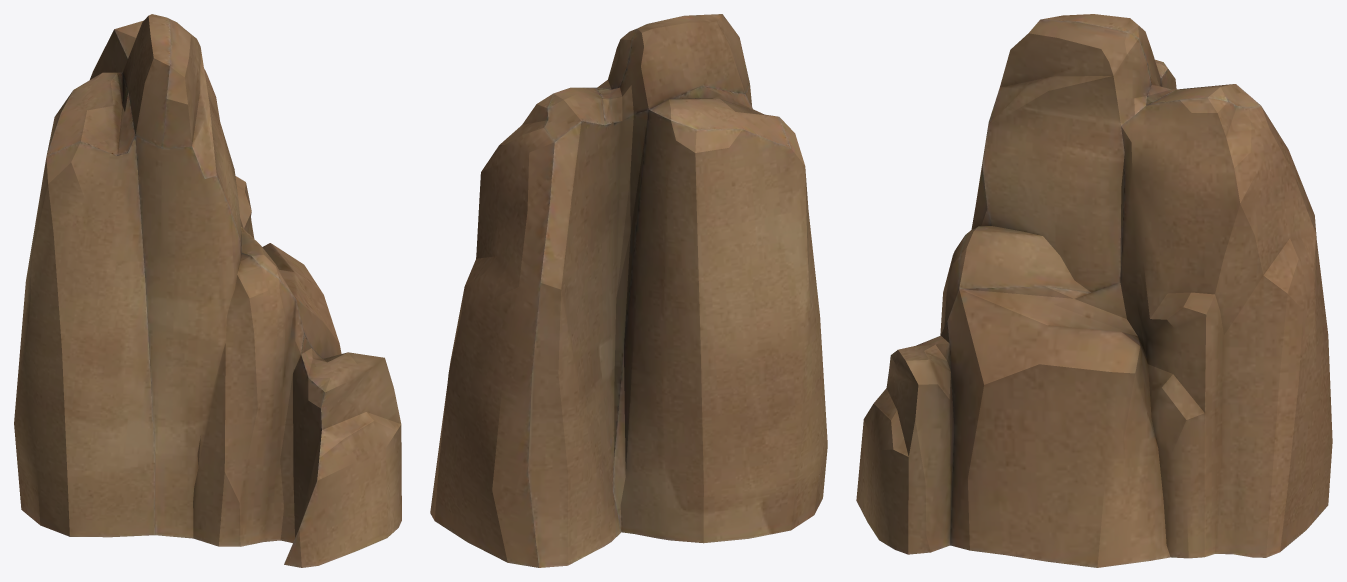
3 views of the same model, side by side, from view 1: azimuth 30°, elevation 25°; view 2: azimuth 150°, elevation 25°; view 3: azimuth 270°, elevation 25° (orthographic). The views are drawn at different scales.
Parts seen in each view (by area): view 1: body0_model0_lod0_mesh0; view 2: body0_model0_lod0_mesh0; view 3: body0_model0_lod0_mesh0.
Boxes of the visible parts, left/top/right/bottom form: body0_model0_lod0_mesh0: left=14, top=14, right=401, bottom=567; body0_model0_lod0_mesh0: left=430, top=14, right=827, bottom=567; body0_model0_lod0_mesh0: left=856, top=14, right=1332, bottom=567.
Size of the model in its own units: 196 by 278 by 258.
1 material, 1 textured.
